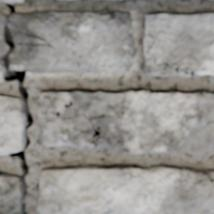brick: (39, 91, 213, 152), (37, 166, 213, 213), (143, 14, 213, 75), (0, 97, 25, 155), (143, 55, 188, 76), (0, 173, 23, 213), (0, 0, 24, 2)
broken_brick: (9, 12, 135, 75), (0, 34, 6, 79), (0, 16, 6, 25)
crack: (0, 2, 57, 211), (143, 31, 197, 76), (207, 177, 213, 182)
